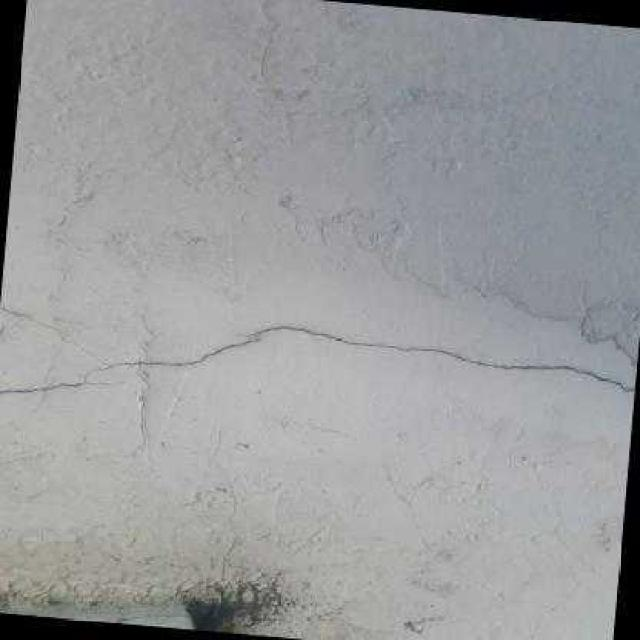D00: (0, 325, 636, 396)
